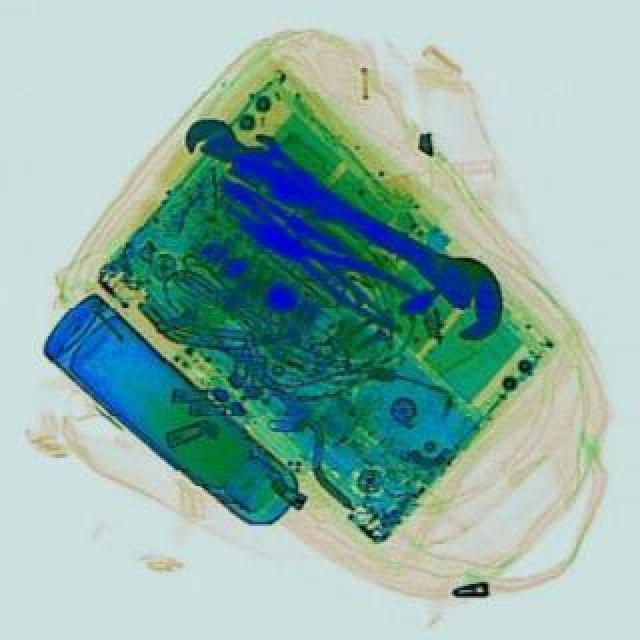scissors: (304, 172, 526, 348), (170, 104, 326, 222)
wrench: (244, 190, 426, 338), (210, 166, 386, 302)
